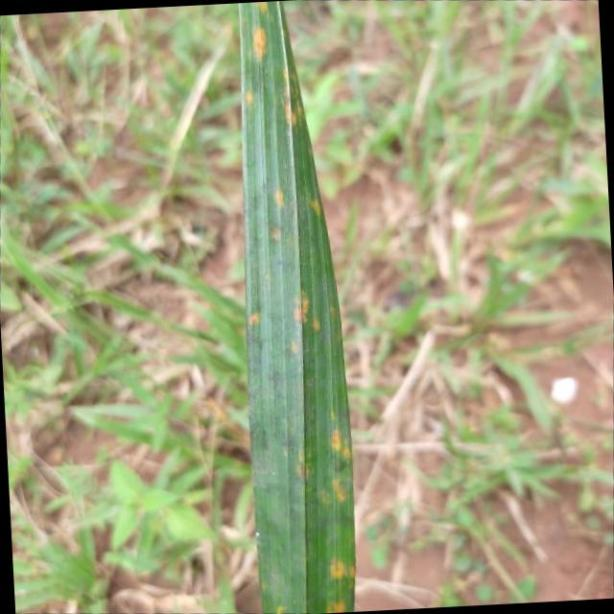Kalium: (230, 0, 358, 614)
